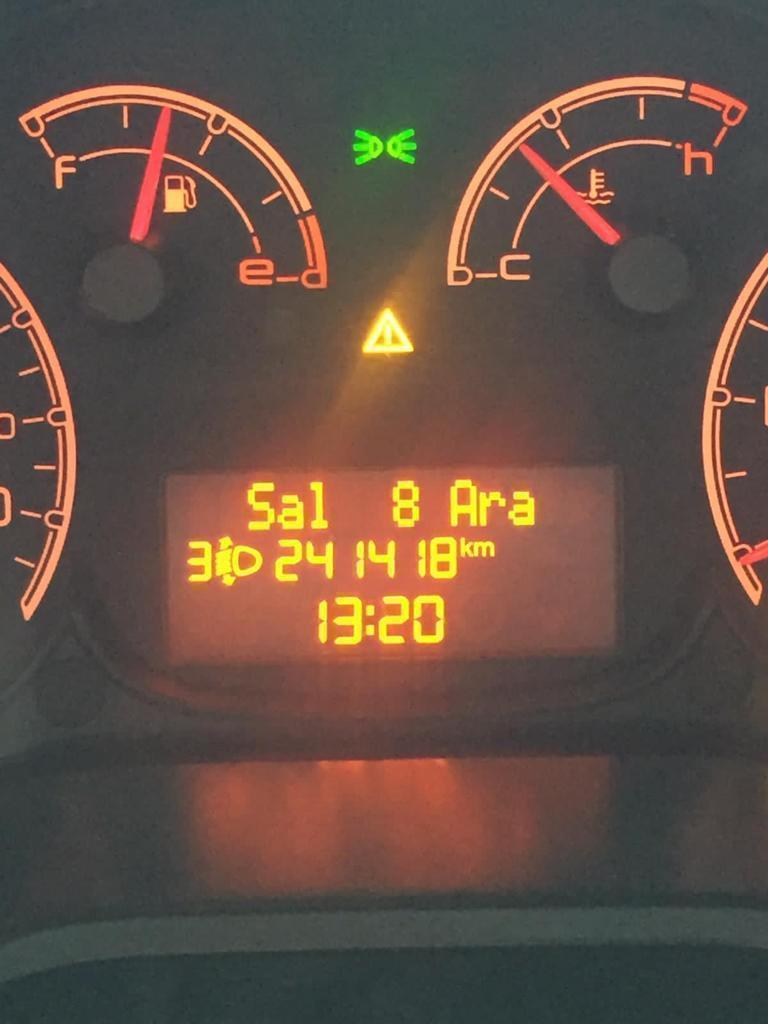0: (411, 592, 445, 645)
1: (310, 594, 328, 647), (410, 535, 425, 578), (350, 538, 363, 582)
2: (378, 591, 409, 644), (274, 536, 301, 582)
3: (331, 593, 361, 646), (182, 537, 213, 584)
4: (367, 537, 398, 579), (304, 538, 335, 579)
8: (389, 476, 422, 528), (428, 535, 458, 579)
X: (243, 477, 277, 532), (448, 476, 478, 527), (307, 477, 331, 531), (508, 488, 537, 527), (478, 487, 506, 527), (278, 494, 305, 531), (362, 601, 378, 637), (474, 538, 494, 558), (459, 532, 473, 557)
odometer: (151, 453, 630, 676)
